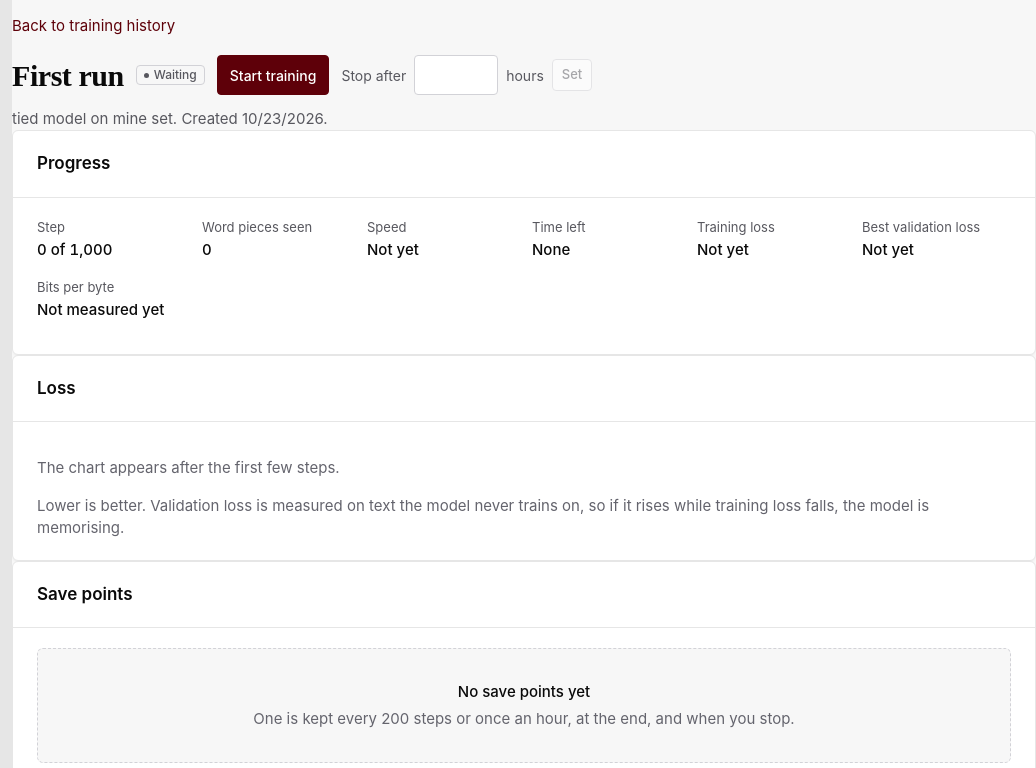
Test case: saves a time limit from the box
Expected: the button "Set" is disabled, [552,59,592,91]
Type "30" into the number field named "Stop after this many hours" at (456, 75), box [414,55,498,95]
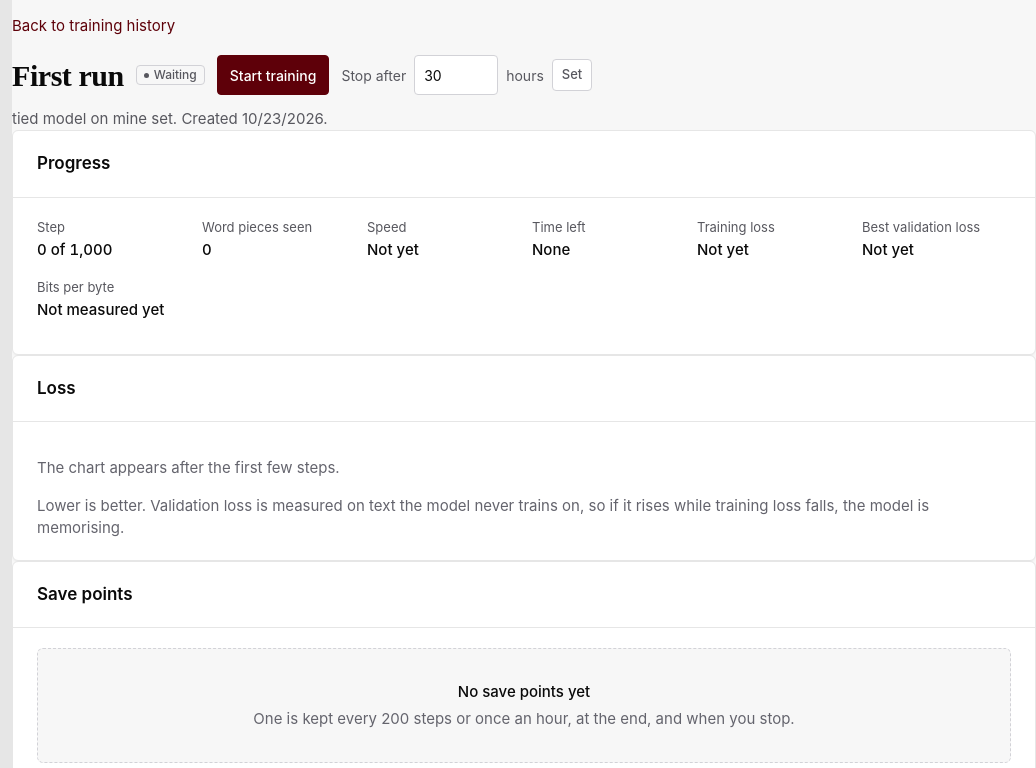
Click the button "Set" at (572, 75), box [552,59,592,91]
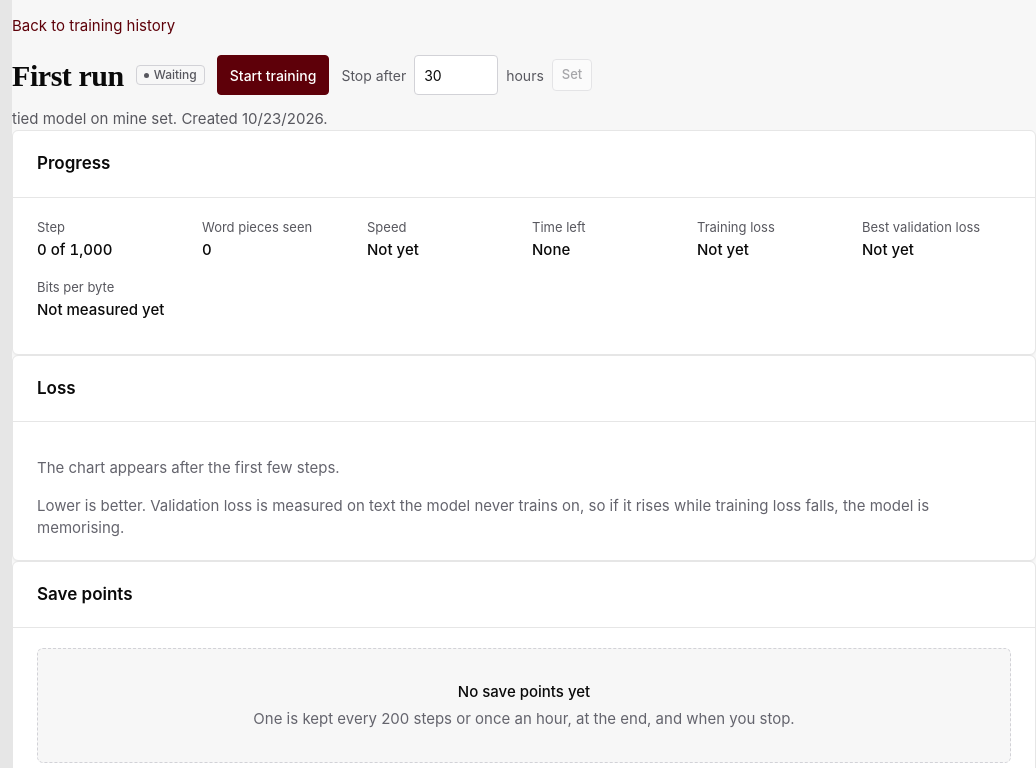
Expected: the button "Set" is disabled, [552,59,592,91]
